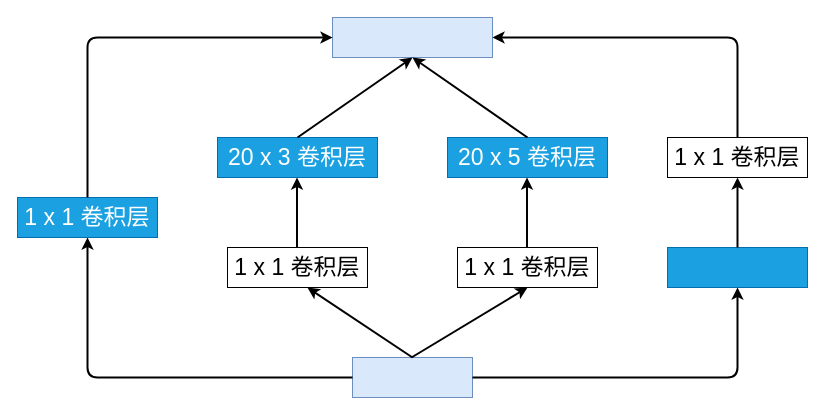
Some shapes in this 825 by 415 pixel diagram are drawn without their labels. The shapes that lost their labels are listed below. From the top down, each one's box as (x1, y1, x2, y2) in pixels, then its label:
(332, 16, 492, 58): 通道合并层
(666, 246, 808, 288): 3 x 3 卷积层
(352, 356, 472, 398): 输入
